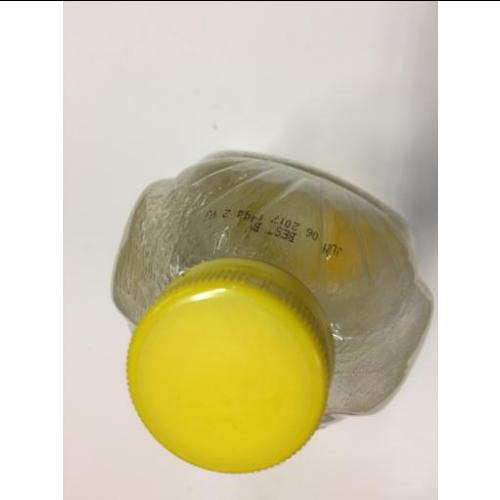plastic: (110, 160, 433, 479)
